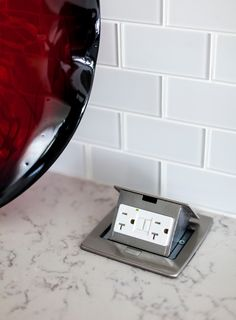outlet: (150, 217, 171, 243), (115, 208, 136, 231)
